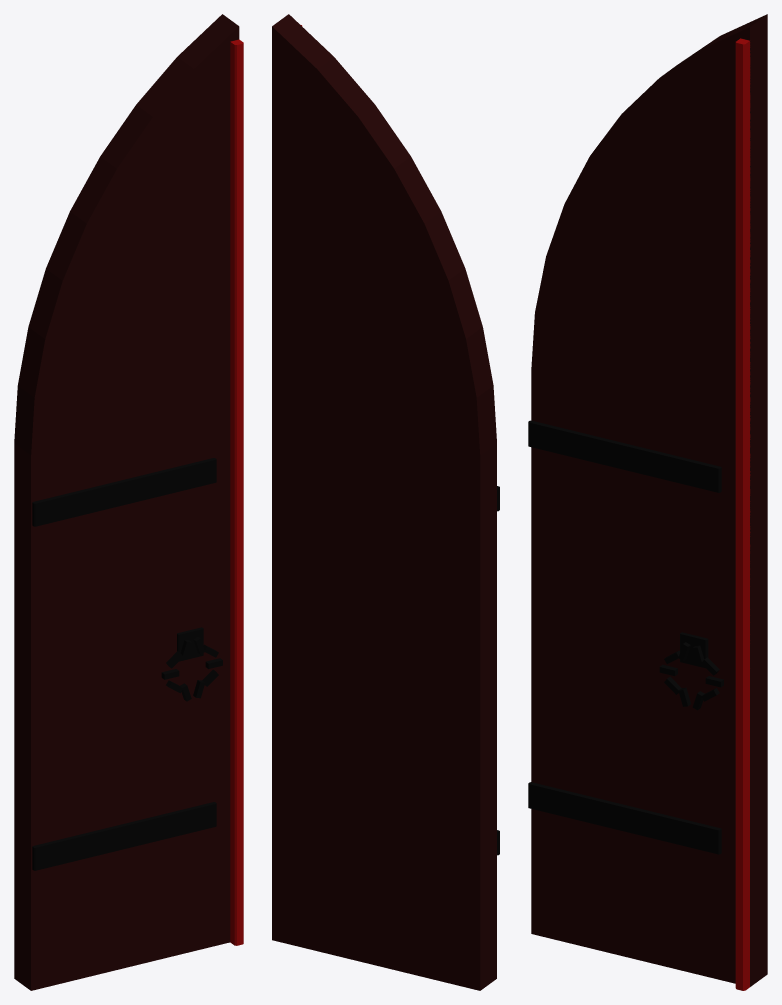
Rendered from SilverbrookNorthridgeHouse1_Door1.fbx.
The picture shows the model from 3 angles, left to right: view 1: azimuth 30°, elevation 25°; view 2: azimuth 150°, elevation 25°; view 3: azimuth 330°, elevation 25°; orthographic projection. The views are drawn at different scales.
Visible parts, largest first — view 1: SM_SBNorthridgeHouse1_Door1_Part; view 2: SM_SBNorthridgeHouse1_Door1_Part; view 3: SM_SBNorthridgeHouse1_Door1_Part.
Boxes of the visible parts, x1=… form: SM_SBNorthridgeHouse1_Door1_Part: x1=14, y1=14, x2=243, y2=990; SM_SBNorthridgeHouse1_Door1_Part: x1=272, y1=14, x2=499, y2=990; SM_SBNorthridgeHouse1_Door1_Part: x1=528, y1=14, x2=767, y2=990.
Size of the model in its own units: 57 by 239 by 10.7.
